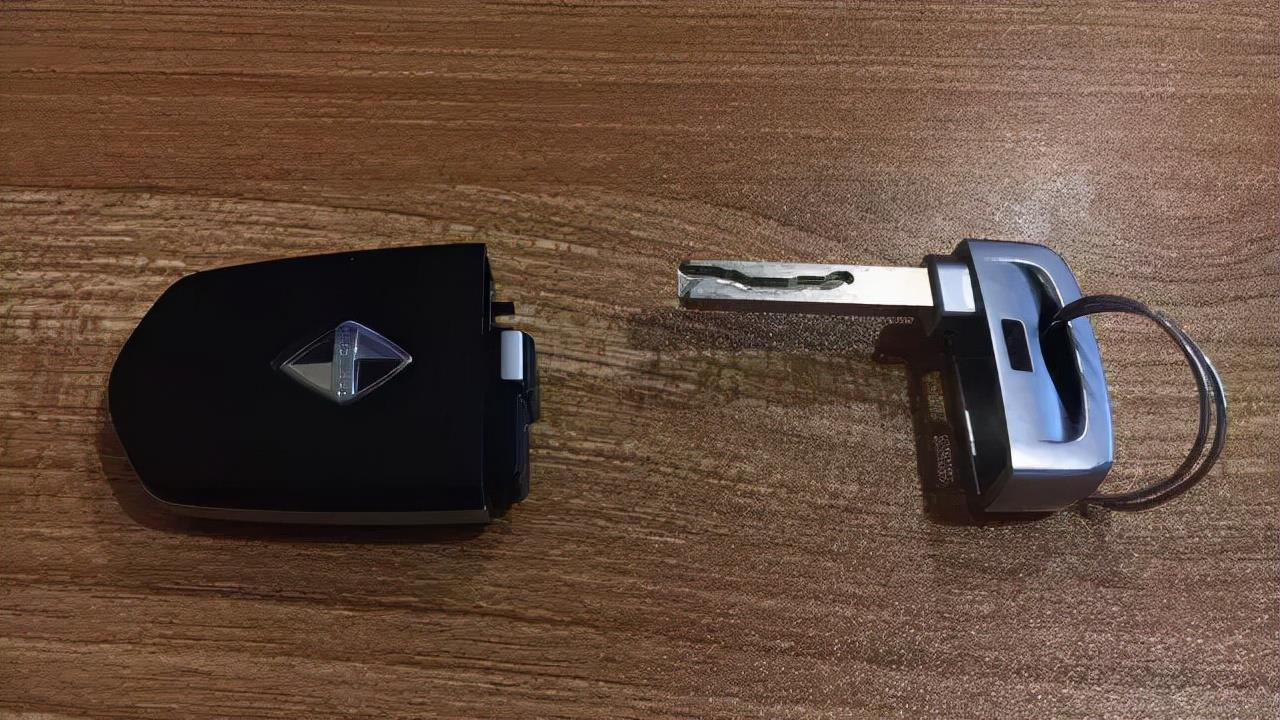key: (676, 191, 1133, 512)
